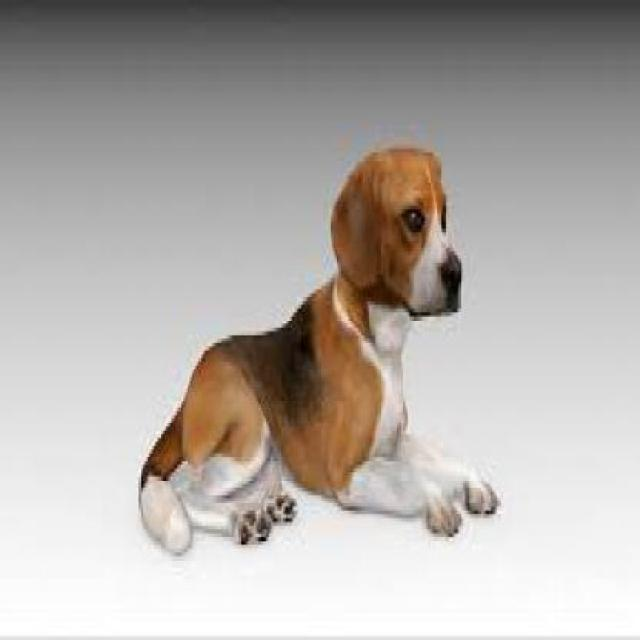Dog: (137, 135, 505, 577)
